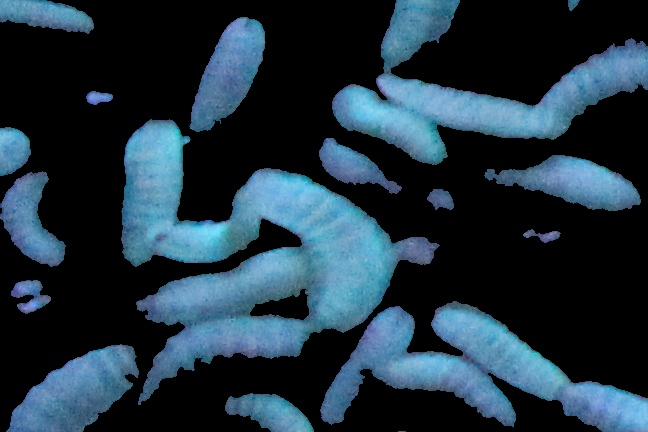larvae: (248, 168, 390, 319), (373, 67, 583, 147), (428, 294, 569, 407), (141, 244, 309, 323), (111, 110, 186, 278), (491, 139, 642, 222), (3, 344, 134, 432), (369, 349, 522, 423), (144, 317, 315, 382), (186, 8, 270, 139), (326, 85, 449, 172), (324, 303, 412, 424), (543, 33, 648, 130), (1, 168, 80, 264), (567, 375, 648, 432), (222, 385, 313, 432), (1, 1, 92, 39)
